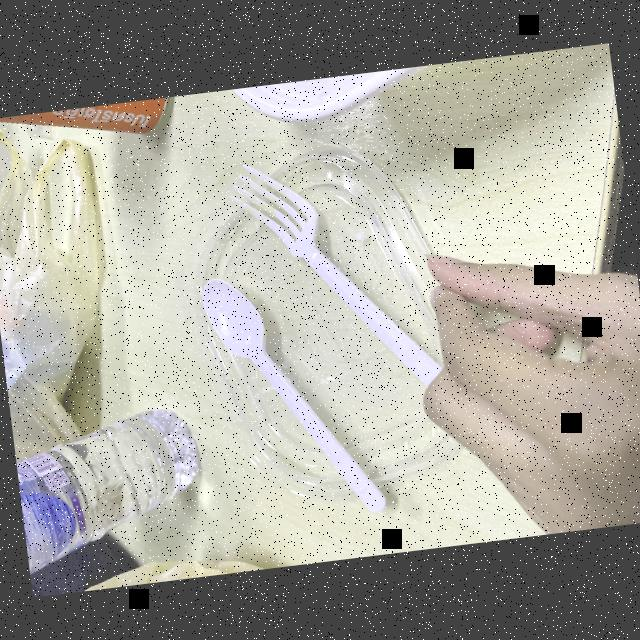plastic_spoon: (217, 136, 458, 409), (194, 256, 394, 527)
